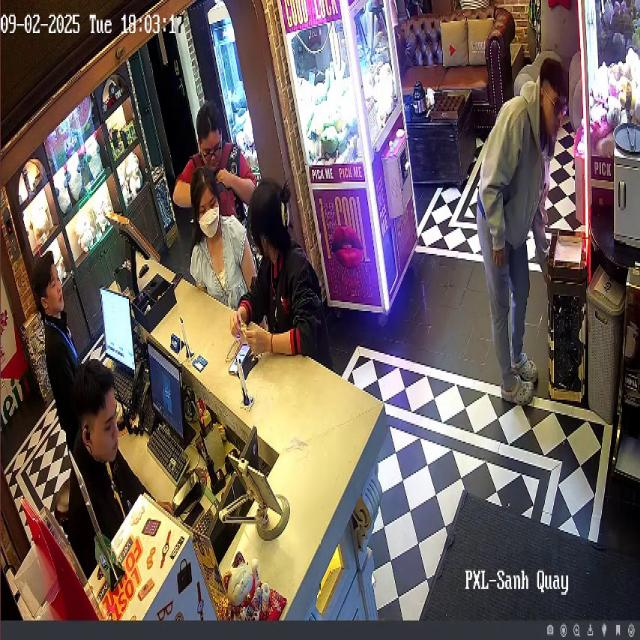khach: (478, 38, 570, 418), (236, 172, 342, 376), (168, 102, 260, 240), (182, 167, 256, 324)
nhan vien: (62, 355, 156, 577), (30, 247, 95, 477)
